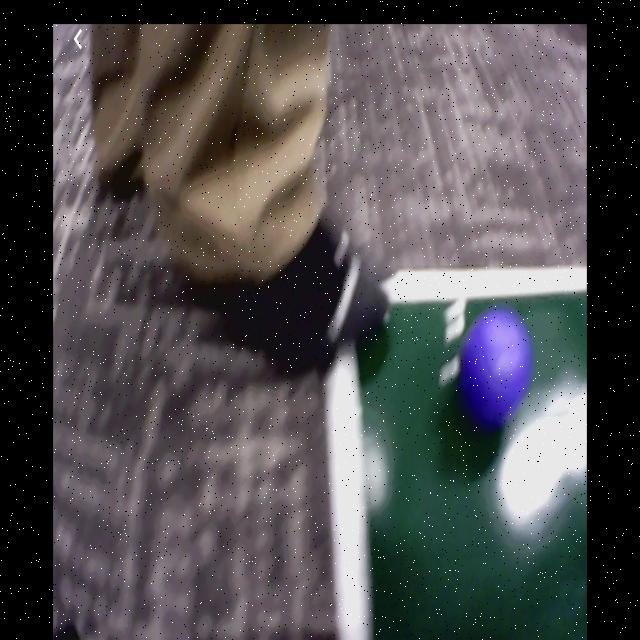ball: (461, 308, 531, 419)
